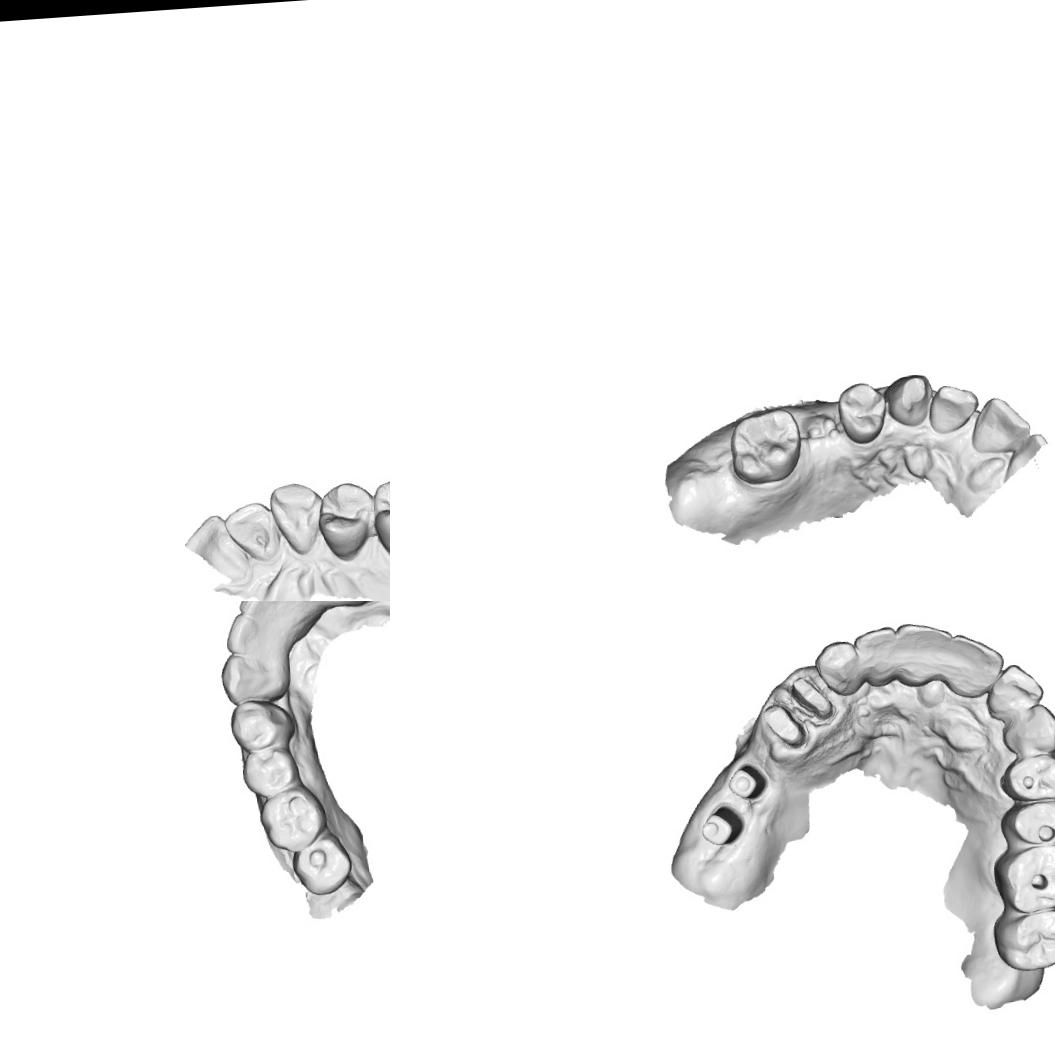abutment: (698, 803, 745, 847), (725, 762, 770, 802)
canine: (269, 477, 328, 551), (218, 649, 292, 706), (998, 700, 1055, 757), (883, 369, 937, 429), (812, 638, 862, 698)
crown: (786, 672, 838, 728), (760, 700, 810, 750)
incisor: (182, 511, 255, 588), (942, 630, 1006, 699), (965, 392, 1033, 456), (894, 618, 956, 688), (982, 660, 1046, 722), (224, 499, 278, 564), (924, 380, 982, 438), (852, 624, 900, 688), (221, 610, 261, 656), (236, 601, 271, 623)
molar: (726, 405, 804, 486), (256, 782, 329, 854), (990, 842, 1055, 915), (288, 828, 354, 897), (990, 906, 1055, 973)
premolar: (313, 479, 376, 564), (833, 377, 890, 448), (227, 696, 297, 753), (239, 746, 300, 800), (998, 752, 1055, 803), (1000, 797, 1055, 846), (370, 474, 390, 560)
